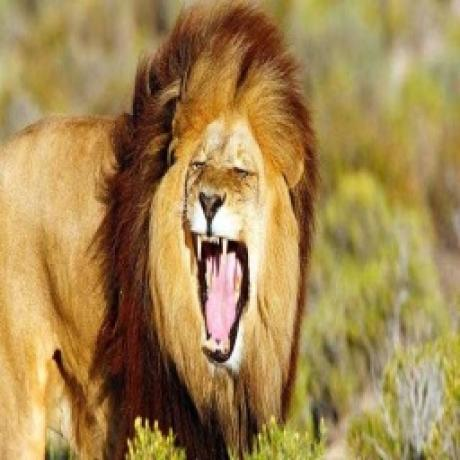Lion: (0, 2, 320, 460)
